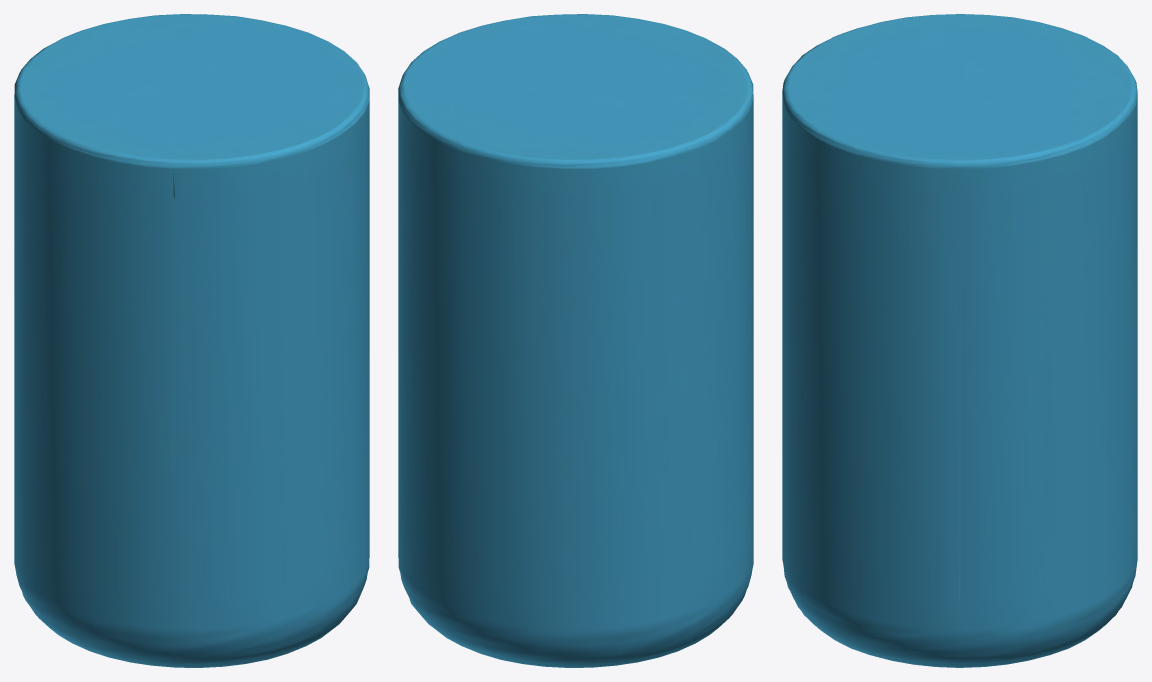
Rendered from liquid.glb.
3 renders of one model, left to right at view 1: azimuth 30°, elevation 25°; view 2: azimuth 150°, elevation 25°; view 3: azimuth 270°, elevation 25°, orthographic.
Parts seen in each view (by area): view 1: tripo_node_0b1d7534-54e8-43dd-9e35-61d632109ea5; view 2: tripo_node_0b1d7534-54e8-43dd-9e35-61d632109ea5; view 3: tripo_node_0b1d7534-54e8-43dd-9e35-61d632109ea5.
Part boxes in pixels (box(x1,y1,x2,y2)): tripo_node_0b1d7534-54e8-43dd-9e35-61d632109ea5: box(14, 14, 369, 667); tripo_node_0b1d7534-54e8-43dd-9e35-61d632109ea5: box(398, 14, 753, 667); tripo_node_0b1d7534-54e8-43dd-9e35-61d632109ea5: box(782, 14, 1137, 667).
Bounding box in the file's own units: 0.1861 × 0.3 × 0.1861.
1 material, 1 textured.
